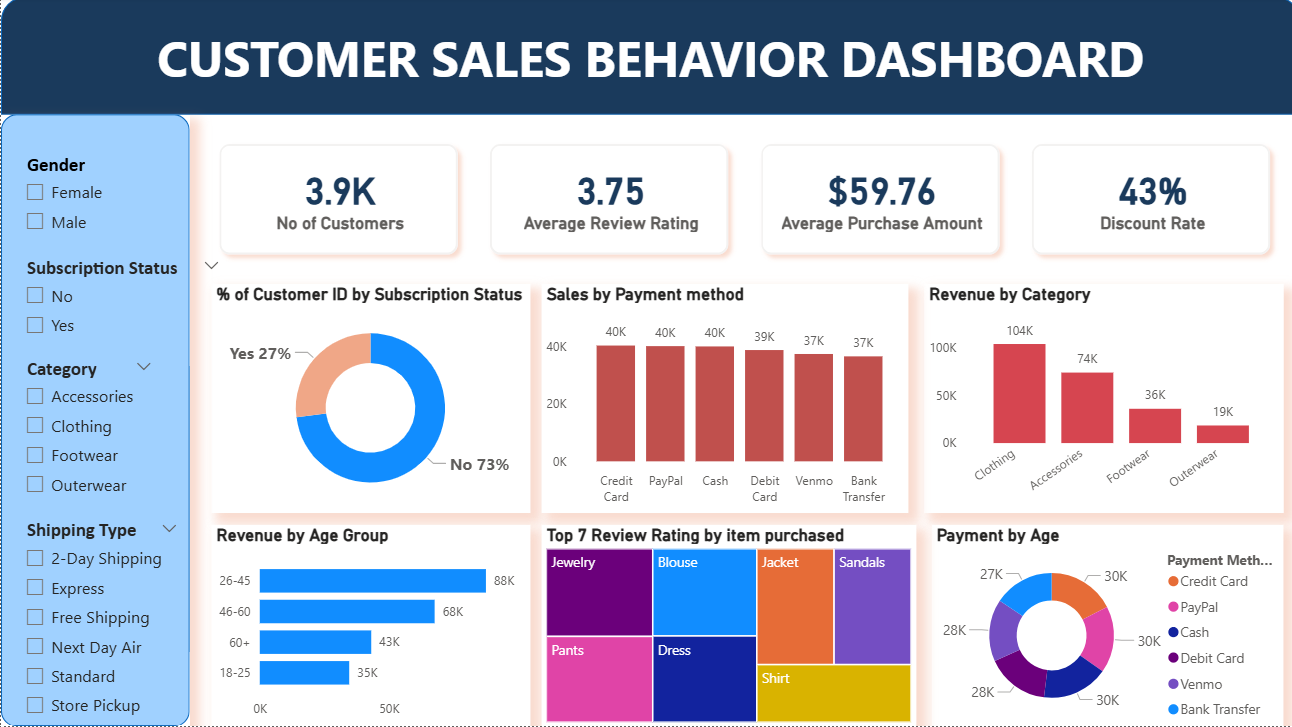

The dashboard page shown, as its layout file describes it:
{"tool":"powerbi","page":{"name":"Page 1","canvas":[1280,720],"ordinal":0},"visuals":[{"type":"shape","box":[0,0,1280.7,116.2],"z":0},{"type":"textbox","box":[0,22.4,1280.7,83.9],"z":1000},{"type":"cardVisual","fields":{"Data":["customer_shopping_behavior.No of Customers","customer_shopping_behavior.Average Review Rating","customer_shopping_behavior.Average Purchase Amount","customer_shopping_behavior.Discount Rate"]},"box":[185.9,116,1094.7,167.8],"z":2000},{"type":"donutChart","title":"% of Customer ID by Subscription Status","fields":{"Category":["customer_shopping_behavior.Subscription Status"],"Y":["CountNonNull(customer_shopping_behavior.Customer ID)"]},"box":[207.4,282.8,314.2,226.2],"z":3000},{"type":"clusteredColumnChart","title":"Revenue by Category","fields":{"Category":["customer_shopping_behavior.Category"],"Y":["Sum(customer_shopping_behavior.Purchase Amount (USD))"]},"box":[909.9,282.8,354.4,226.2],"z":4000},{"type":"clusteredColumnChart","title":"Sales by Payment method","fields":{"Category":["customer_shopping_behavior.Payment Method"],"Y":["Sum(customer_shopping_behavior.Purchase Amount (USD))"]},"box":[532.9,282.8,362,226.2],"z":5000},{"type":"shape","box":[0,116,185.9,604],"z":6000},{"type":"slicer","fields":{"Values":["customer_shopping_behavior.Gender"]},"box":[12.6,148.2,127.2,102.1],"z":7000},{"type":"slicer","fields":{"Values":["customer_shopping_behavior.Subscription Status"]},"box":[12.6,250.1,214.9,99.3],"z":8000},{"type":"slicer","fields":{"Values":["customer_shopping_behavior.Category"]},"box":[12.6,349.5,148.2,180.4],"z":9000},{"type":"slicer","fields":{"Values":["customer_shopping_behavior.Shipping Type"]},"box":[12.6,508.9,173.4,211.1],"z":10000},{"type":"clusteredBarChart","title":"Revenue by Age Group","fields":{"Category":["customer_shopping_behavior.Age Group"],"Y":["Sum(customer_shopping_behavior.Purchase Amount (USD))"]},"box":[207.4,520.3,314.2,199.8],"z":11000},{"type":"donutChart","title":"Payment by Age","fields":{"Category":["customer_shopping_behavior.Payment Method"],"Y":["Sum(customer_shopping_behavior.Age)"]},"box":[917.5,520.3,346.9,199.8],"z":12000},{"type":"treemap","title":"Top 7 Review Rating by item purchased","fields":{"Values":["Sum(customer_shopping_behavior.Review Rating)"],"Details":["customer_shopping_behavior.Item Purchased"]},"box":[532.9,520.3,369.5,199.8],"z":13000}]}

Visuals, with their boxes in screenshot pixels (x1, y1, x2, y2), scaled from the page's 1280x720 canvas onto the 1292x727 screenshot:
shape: 0/0/1291/117
textbox: 0/23/1291/107
cardVisual - customer_shopping_behavior.No of Customers x customer_shopping_behavior.Average Review Rating: 188/117/1291/287
"% of Customer ID by Subscription Status" donutChart: 209/286/526/514
"Revenue by Category" clusteredColumnChart: 918/286/1276/514
"Sales by Payment method" clusteredColumnChart: 538/286/903/514
shape: 0/117/188/726
slicer - customer_shopping_behavior.Gender: 13/150/141/253
slicer - customer_shopping_behavior.Subscription Status: 13/253/230/353
slicer - customer_shopping_behavior.Category: 13/353/162/535
slicer - customer_shopping_behavior.Shipping Type: 13/514/188/726
"Revenue by Age Group" clusteredBarChart: 209/525/526/726
"Payment by Age" donutChart: 926/525/1276/726
"Top 7 Review Rating by item purchased" treemap: 538/525/911/726
